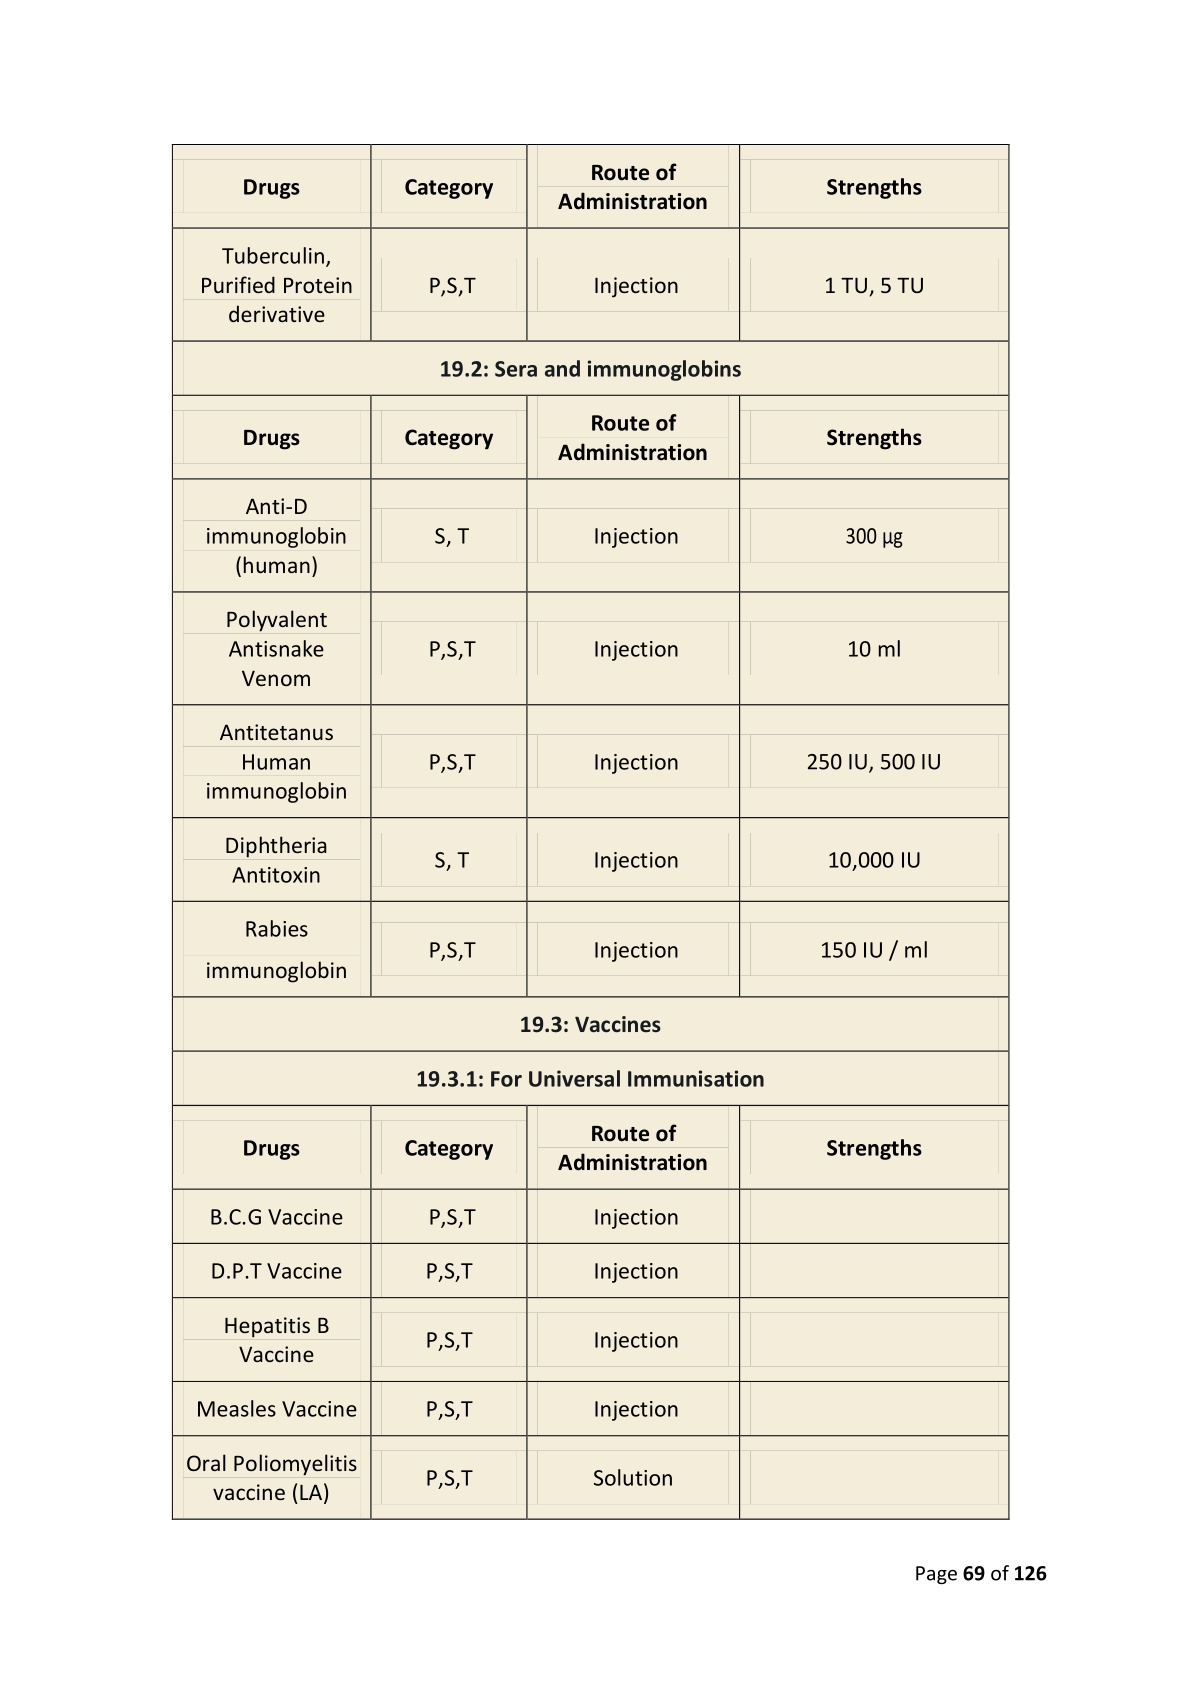merged_cells: (169, 140, 1011, 1522)
